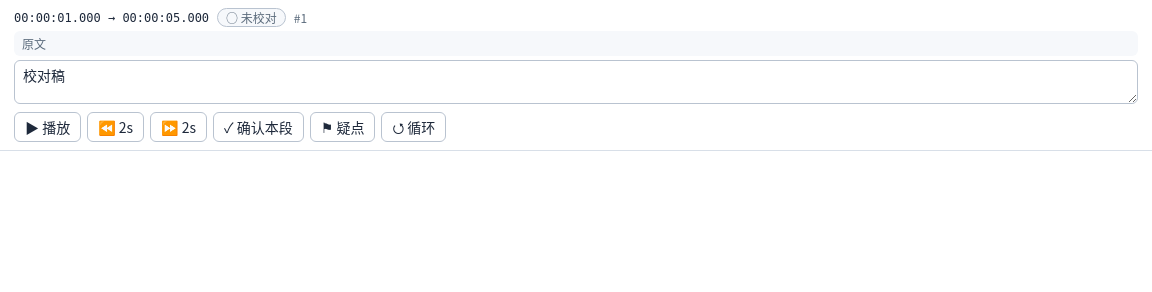
行内疑点类型选择层（PRD V1.0.4 AC-044） › 点击类型后才创建且仅创建一条：所选类型 + blocking，随后关闭
Click the button "⚑ 疑点" at (343, 127), box [310,112,375,142]
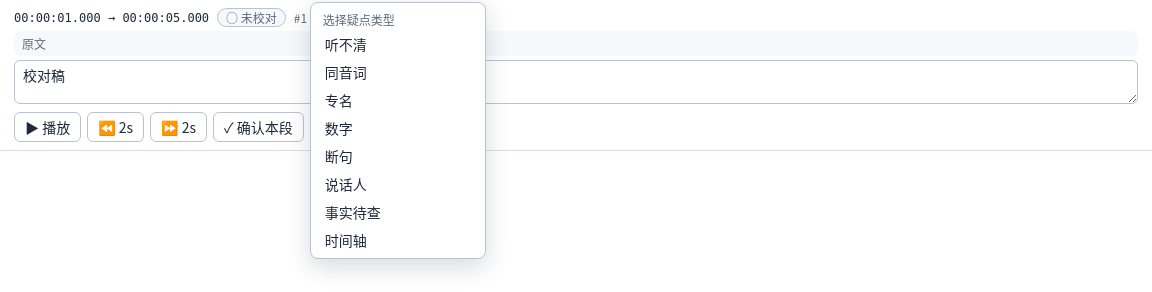
Click the menu item "专名" at (398, 100), box [315,86,481,114]
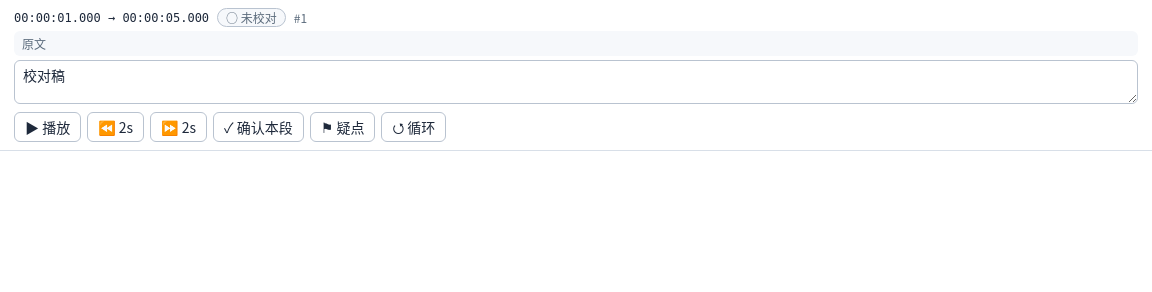
Now the menu is gone
